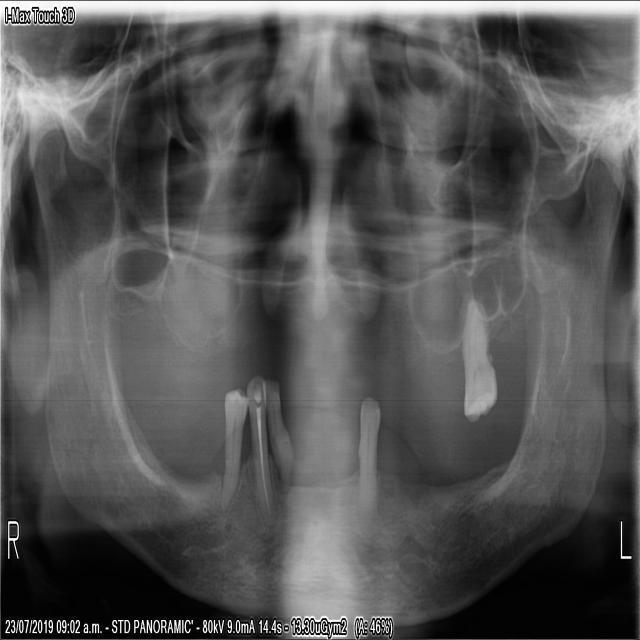LID: (355, 392, 384, 542)
LMU: (457, 291, 497, 420)
RID: (243, 370, 271, 536)
RPMD: (215, 382, 248, 517)
